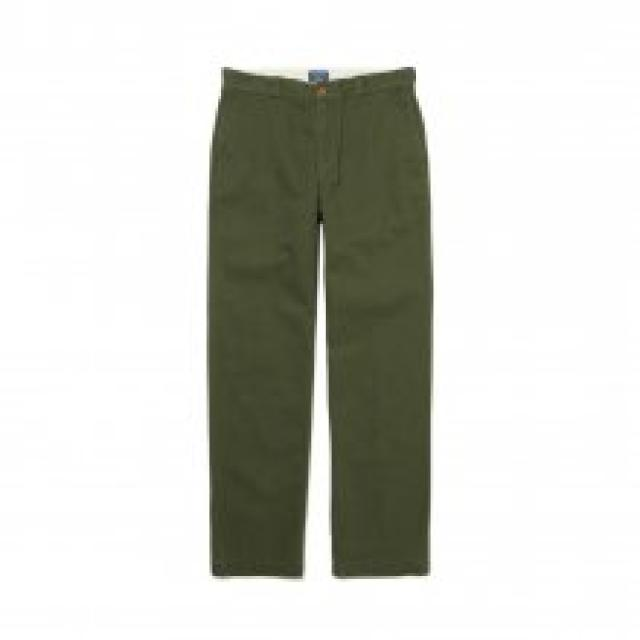long-pants: (207, 70, 436, 585)
